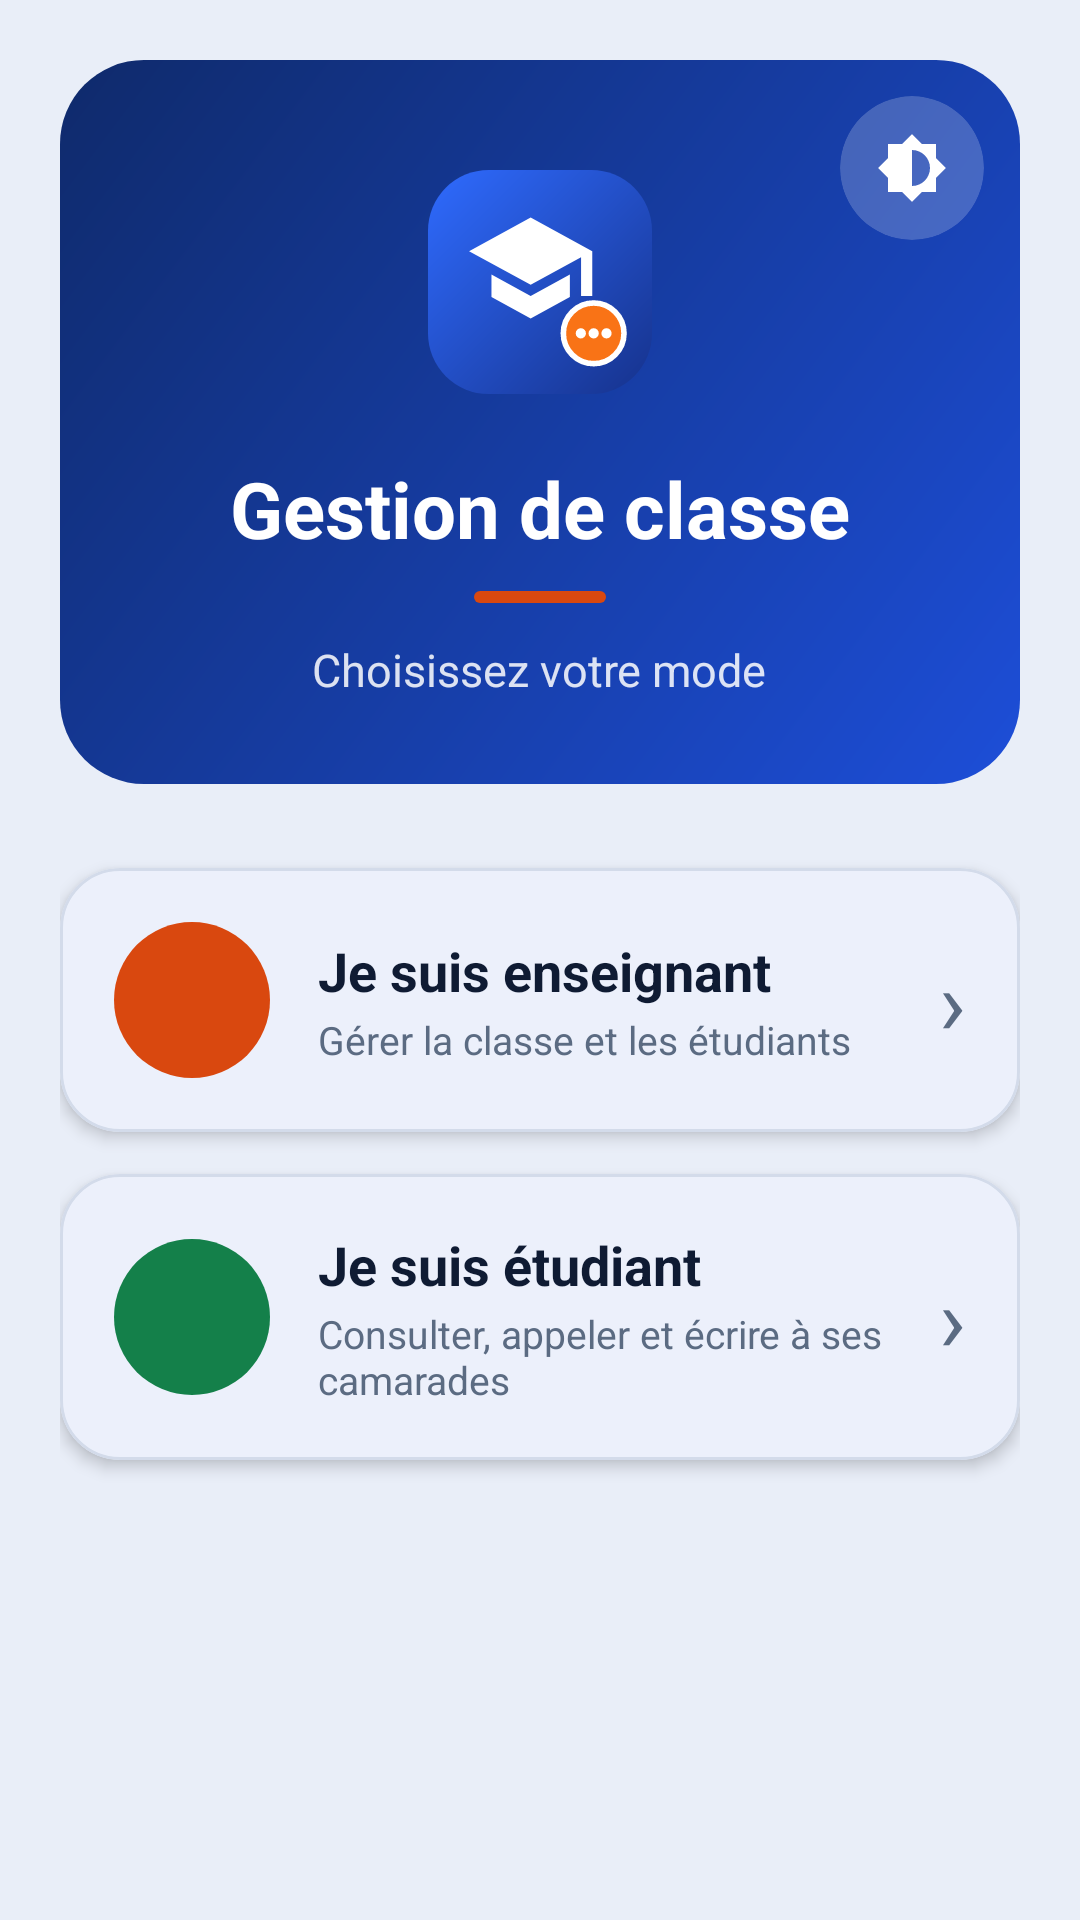

Where icons sit on this 1080*1920 app screen, as (x1, y1, x2, y2):
theme: (878, 134, 946, 202)
